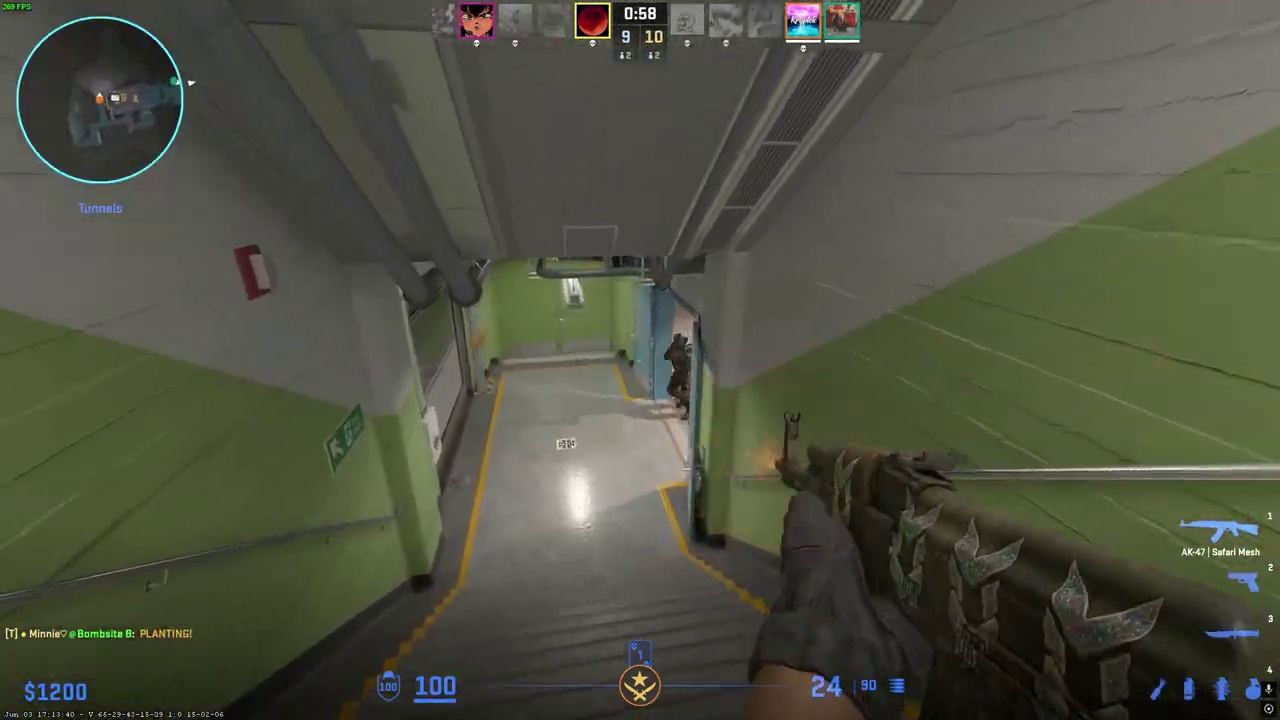CT: (664, 333, 692, 420)
